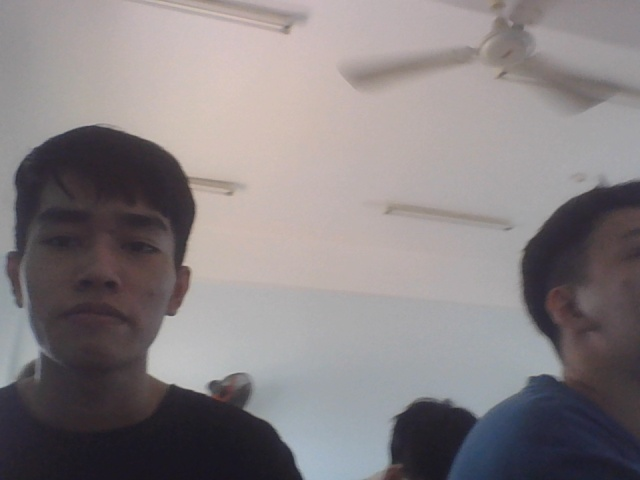real: (3, 117, 196, 390)
